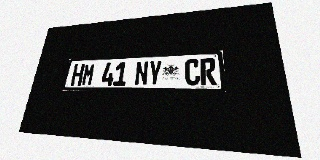1: (113, 62, 128, 86)
4: (101, 62, 116, 86)
C: (185, 59, 200, 86)
H: (70, 64, 85, 86)
M: (81, 63, 96, 86)
N: (134, 61, 149, 86)
R: (200, 58, 217, 85)
Y: (148, 60, 162, 86)
